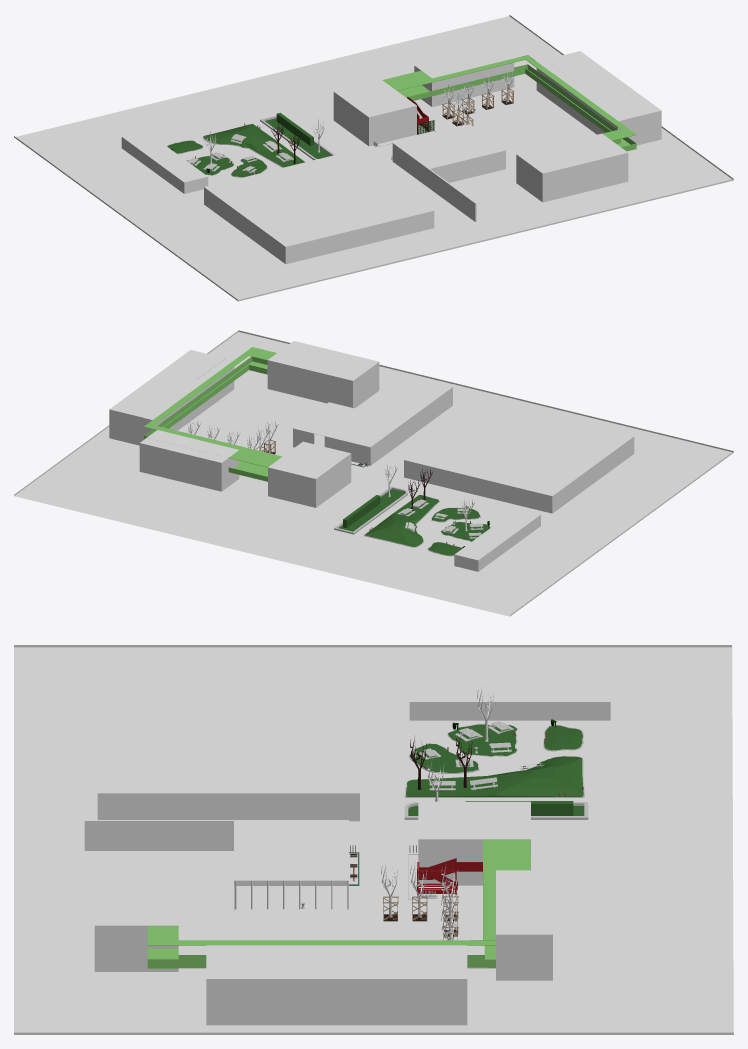
File: map.fbx
The picture shows the model from 3 angles, top to bottom: view 1: azimuth 30°, elevation 25°; view 2: azimuth 150°, elevation 25°; view 3: azimuth 270°, elevation 25°; orthographic projection. The views are drawn at different scales.
Parts seen in each view (by area): view 1: Plane.002, Travaux, baby foot sup.001, batiment supbiotech 1, batiment sup bio 2, batiment supbio.001, batiment sup bio 4, batiment 3 sup bio, EPITA, Cube.001, bordure 1.001, Arbre.002 (+1 smaller); view 2: Plane.002, Travaux, batiment supbiotech 1, batiment sup bio 2, baby foot sup.001, batiment 3 sup bio, batiment sup bio 4, batiment supbio.001, EPITA, Cube.001, bordure 1.001, Cube.003; view 3: Plane.002, Travaux, batiment sup bio 2, baby foot sup.001, batiment supbiotech 1, EPITA, batiment supbio.001, batiment sup bio 4, batiment 3 sup bio, Cube.001, Cube.003, Cube.005 (+4 smaller).
Boxes of the visible parts, <box> form: Plane.002: <box>14,15,733,301</box>; Travaux: <box>204,151,434,264</box>; baby foot sup.001: <box>392,124,505,221</box>; batiment supbiotech 1: <box>516,133,628,202</box>; batiment sup bio 2: <box>536,51,661,145</box>; batiment supbio.001: <box>382,55,636,151</box>; batiment sup bio 4: <box>333,80,416,146</box>; batiment 3 sup bio: <box>414,45,514,107</box>; EPITA: <box>121,131,208,193</box>; Cube.001: <box>203,124,304,167</box>; bordure 1.001: <box>265,118,331,158</box>; Arbre.002: <box>441,69,513,116</box>; Plane.002: <box>14,330,733,616</box>; Travaux: <box>404,400,634,513</box>; batiment supbiotech 1: <box>267,341,379,408</box>; batiment sup bio 2: <box>109,350,234,445</box>; baby foot sup.001: <box>293,386,452,465</box>; batiment 3 sup bio: <box>139,430,239,491</box>; batiment sup bio 4: <box>268,441,351,507</box>; batiment supbio.001: <box>144,347,282,481</box>; EPITA: <box>454,508,540,571</box>; Cube.001: <box>365,495,438,546</box>; bordure 1.001: <box>339,489,405,531</box>; Cube.003: <box>441,522,490,541</box>; Plane.002: <box>14,645,733,1034</box>; Travaux: <box>97,677,359,821</box>; batiment sup bio 2: <box>206,945,467,1025</box>; baby foot sup.001: <box>84,820,348,910</box>; batiment supbiotech 1: <box>94,858,178,971</box>; EPITA: <box>409,683,610,720</box>; batiment supbio.001: <box>147,839,530,968</box>; batiment sup bio 4: <box>418,801,530,885</box>; batiment 3 sup bio: <box>496,870,552,980</box>; Cube.001: <box>406,756,583,796</box>; Cube.003: <box>448,724,516,756</box>; Cube.005: <box>410,743,478,772</box>.
Bounding box in the file's own units: 9001 × 572 × 7069.
